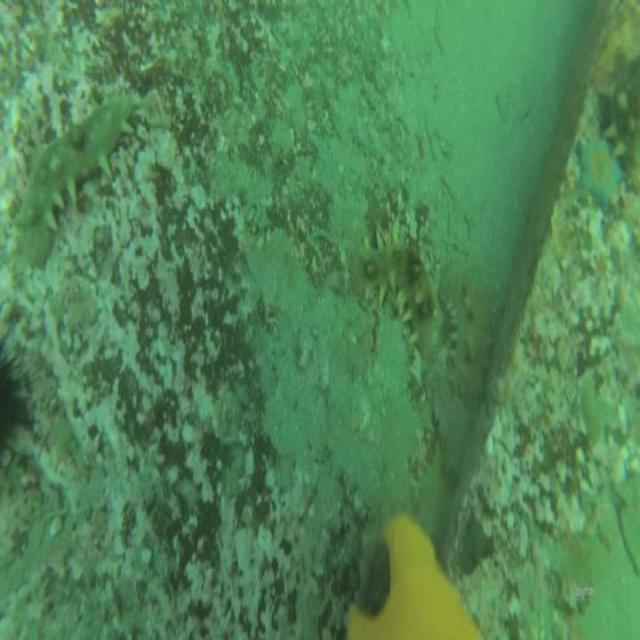holothurian: (12, 92, 135, 232), (351, 236, 436, 360), (440, 265, 489, 403)
starfish: (577, 127, 624, 210)
